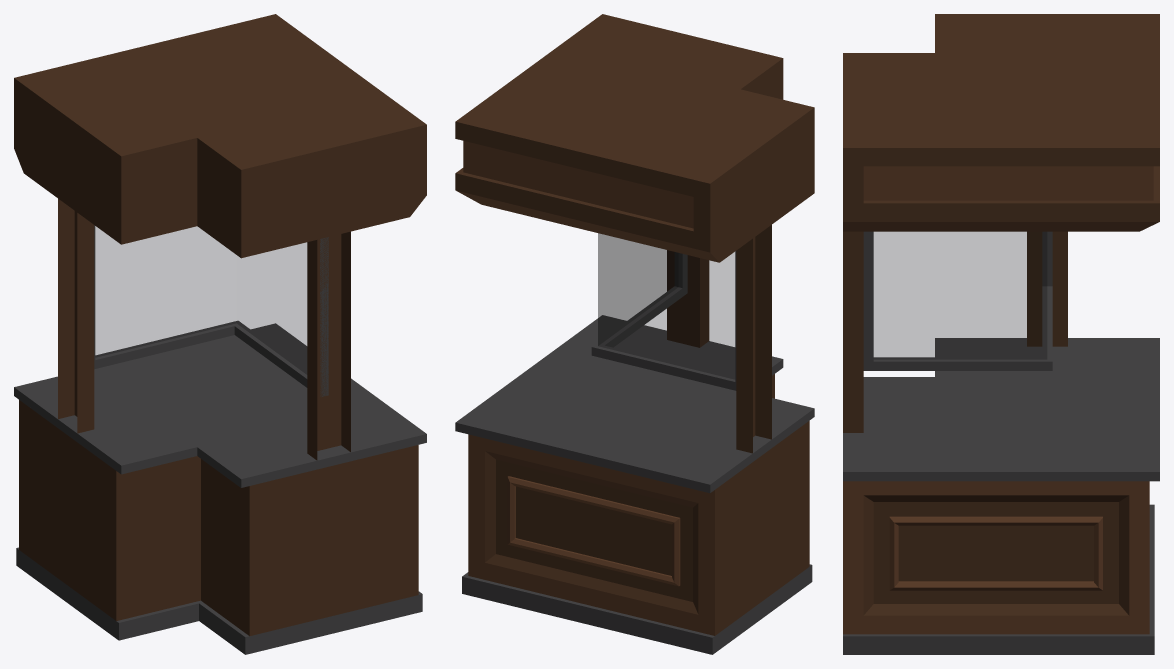
Rendered from SM_Counter_02_corner.glb.
3 renders of one model, left to right at view 1: azimuth 30°, elevation 25°; view 2: azimuth 150°, elevation 25°; view 3: azimuth 270°, elevation 25°, orthographic. The views are drawn at different scales.
Visible parts, largest first — view 1: SM_Counter_02_corner; view 2: SM_Counter_02_corner; view 3: SM_Counter_02_corner.
Part boxes in pixels (box(x1,y1,x2,y2)): SM_Counter_02_corner: box(14, 14, 426, 654); SM_Counter_02_corner: box(455, 14, 814, 654); SM_Counter_02_corner: box(843, 14, 1159, 654).
Bounding box in the file's own units: 1.55 × 2.75 × 1.55.
2 materials, 1 textured.
